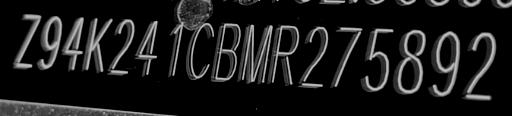letter: (460, 29, 498, 103), (390, 27, 428, 95), (330, 22, 364, 90), (360, 25, 394, 93), (427, 28, 461, 96), (237, 21, 273, 83), (268, 23, 300, 87), (296, 24, 328, 88), (209, 20, 241, 82), (10, 11, 42, 70), (106, 17, 136, 77), (185, 21, 215, 80), (83, 16, 113, 73), (36, 15, 64, 70), (133, 17, 159, 75), (60, 16, 86, 73), (166, 20, 184, 79)
